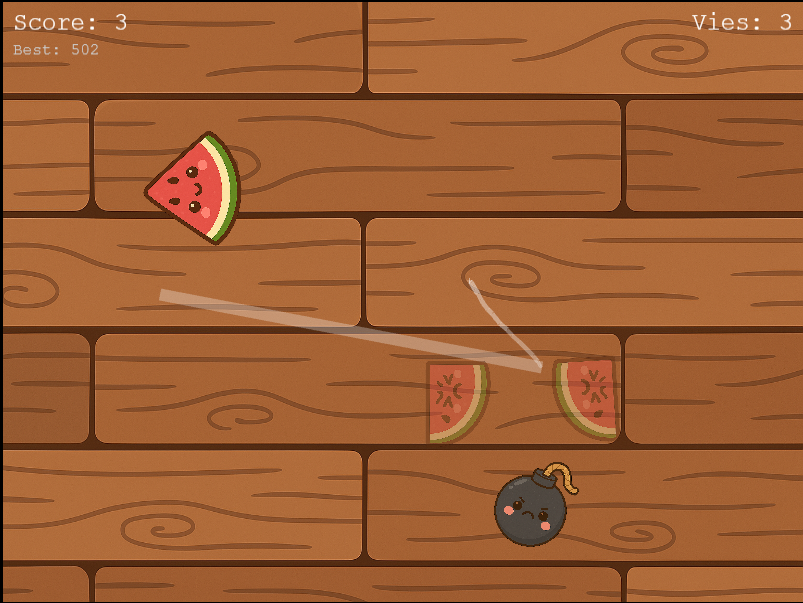bomb: (491, 458, 589, 553)
fruit: (135, 127, 254, 248)
